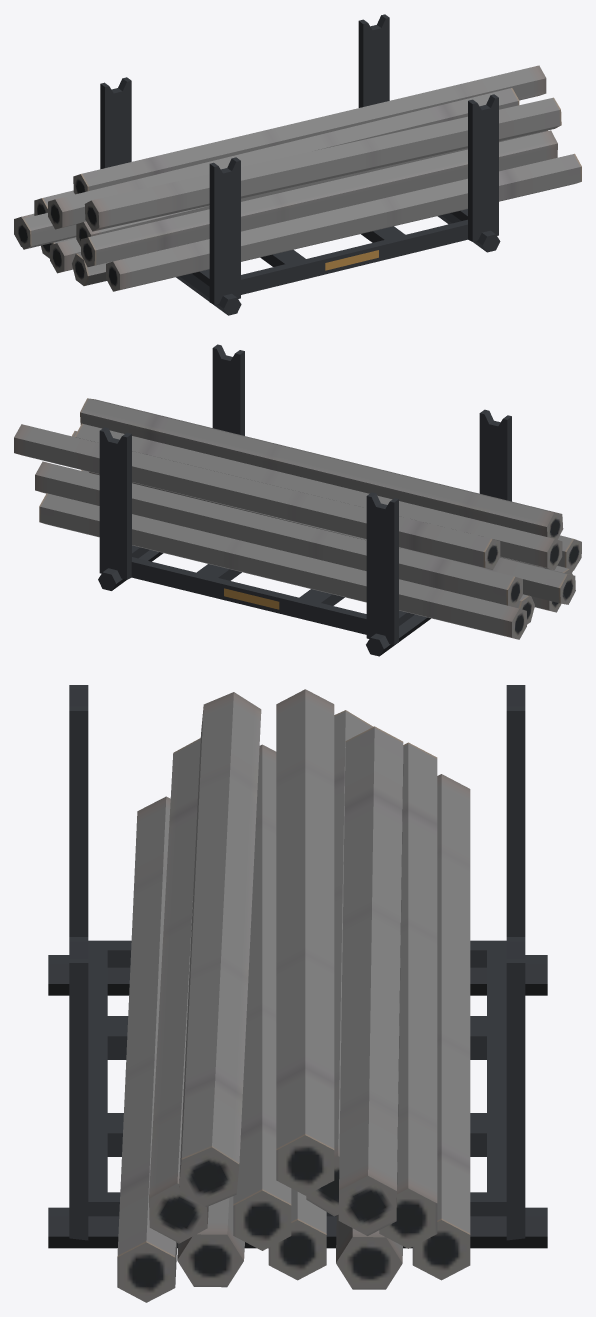
The model's file is SM_Prop_StorageShelf_Pipes_01.obj.
3 renders of one model, top to bottom at view 1: azimuth 30°, elevation 25°; view 2: azimuth 150°, elevation 25°; view 3: azimuth 270°, elevation 25°, orthographic. The views are drawn at different scales.
Visible parts, largest first — view 1: SM_Prop_StorageShelf_Pipes_01_0; view 2: SM_Prop_StorageShelf_Pipes_01_0; view 3: SM_Prop_StorageShelf_Pipes_01_0.
Boxes of the visible parts, x1=… form: SM_Prop_StorageShelf_Pipes_01_0: x1=14, y1=14, x2=581, y2=315; SM_Prop_StorageShelf_Pipes_01_0: x1=14, y1=344, x2=581, y2=656; SM_Prop_StorageShelf_Pipes_01_0: x1=48, y1=685, x2=547, y2=1302.
Bounding box in the file's own units: 4.92 × 1.32 × 2.04.
1 material, 1 textured.
